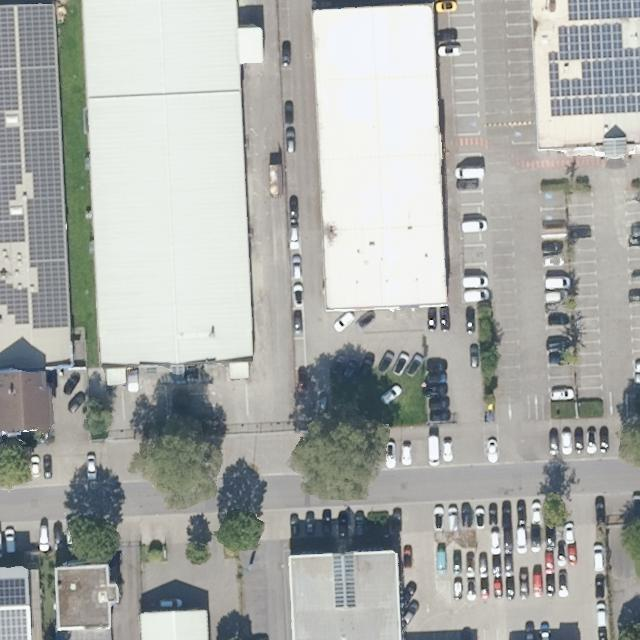PV: (1, 4, 72, 333), (548, 21, 639, 120), (1, 576, 30, 638), (565, 0, 639, 24)
